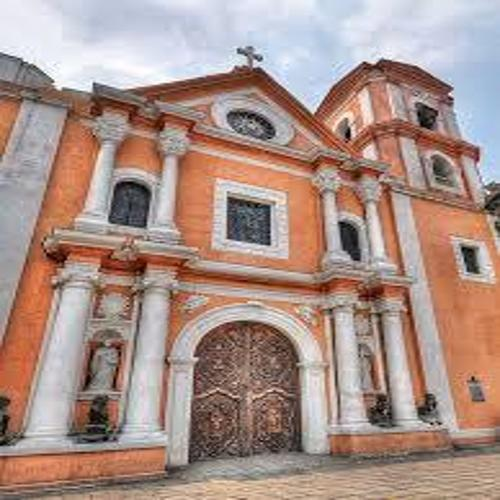San Agustin Church: (86, 24, 500, 488)
